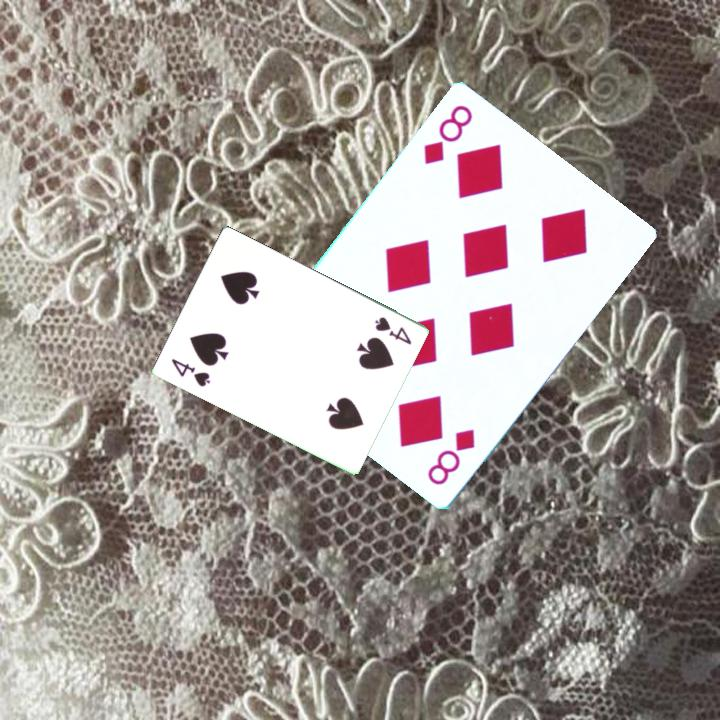4s: (167, 355, 213, 390), (371, 313, 414, 348)
8d: (420, 100, 476, 167), (423, 424, 478, 488)
